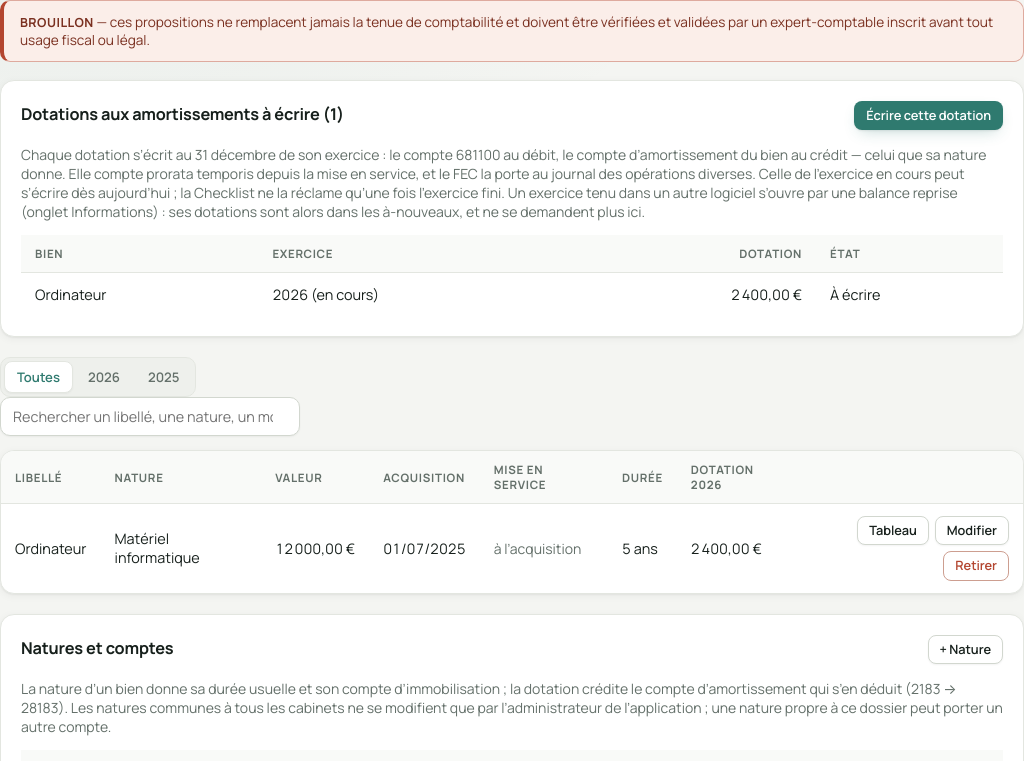
Test: ImmobilisationsTab — retirer un bien › retire le bien par la base, ses dotations écrites avec lui, et le dit avant
Expected: the table named "Registre des immobilisations" is shown, left=1, top=451, right=1023, bottom=593
Click the button "Retirer": (976, 566) left=943, top=551, right=1009, bottom=581
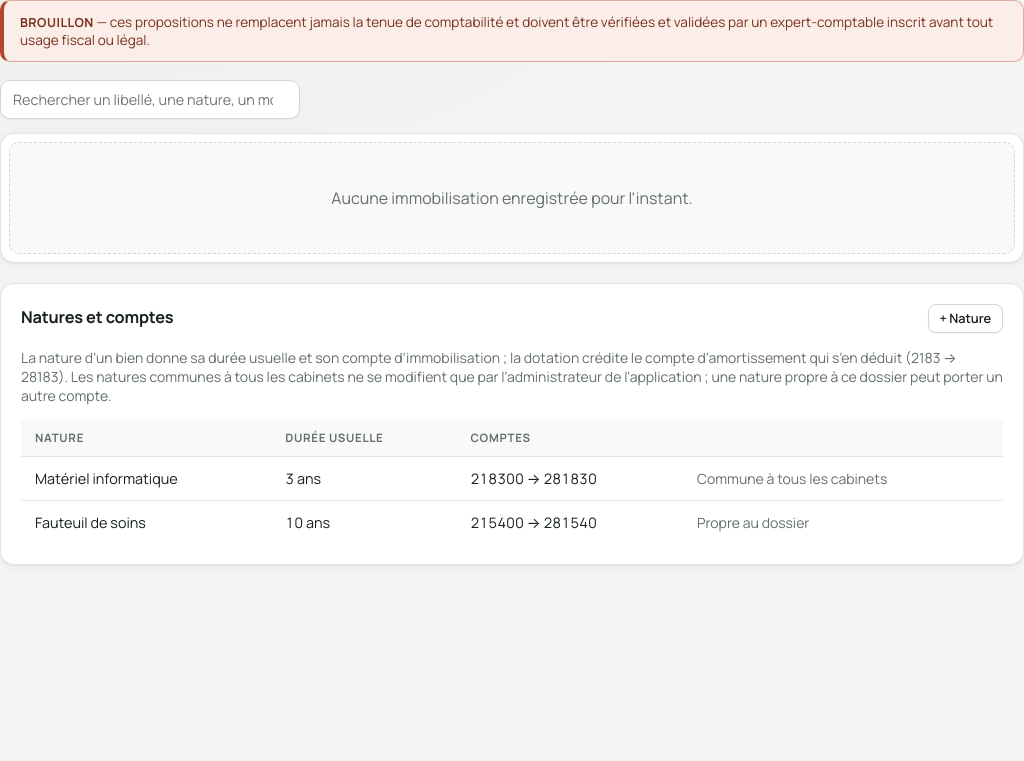
Result: the text "Aucune immobilisation enregistrée pour l'instant." is shown at left=9, top=142, right=1015, bottom=254
